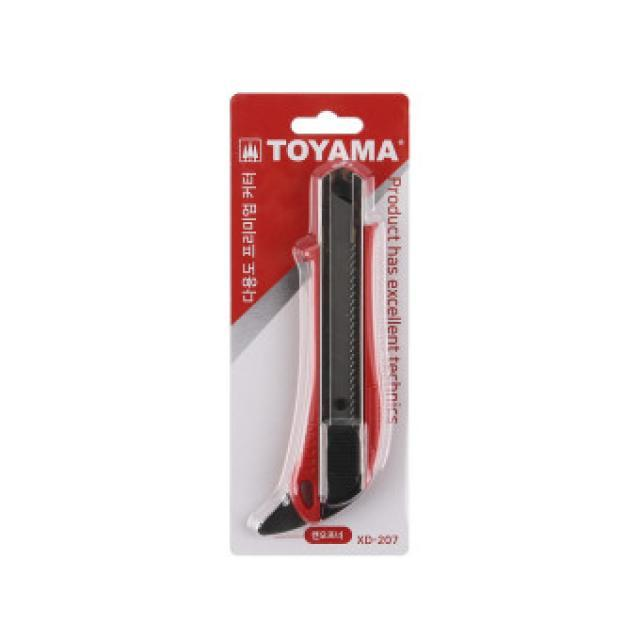cutter: (248, 144, 392, 526)
